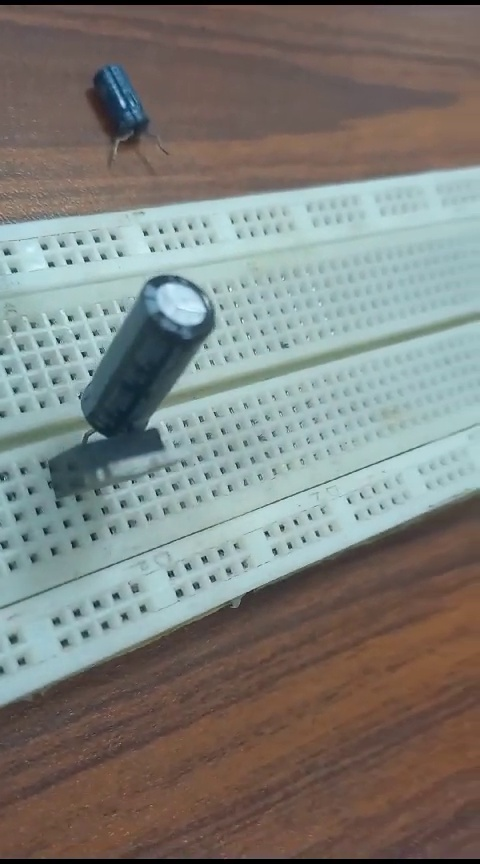capacitor: (83, 256, 215, 436), (79, 57, 176, 180)
voltage regulator: (51, 436, 191, 501)
